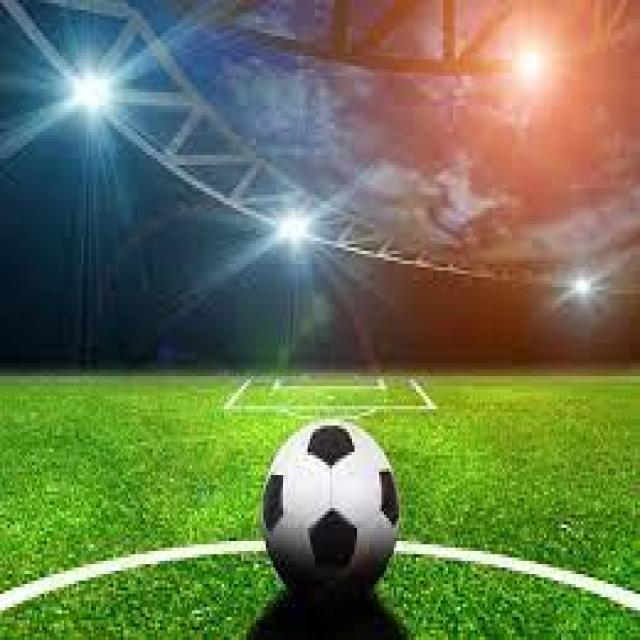Soccer Ball: (261, 419, 401, 597)
